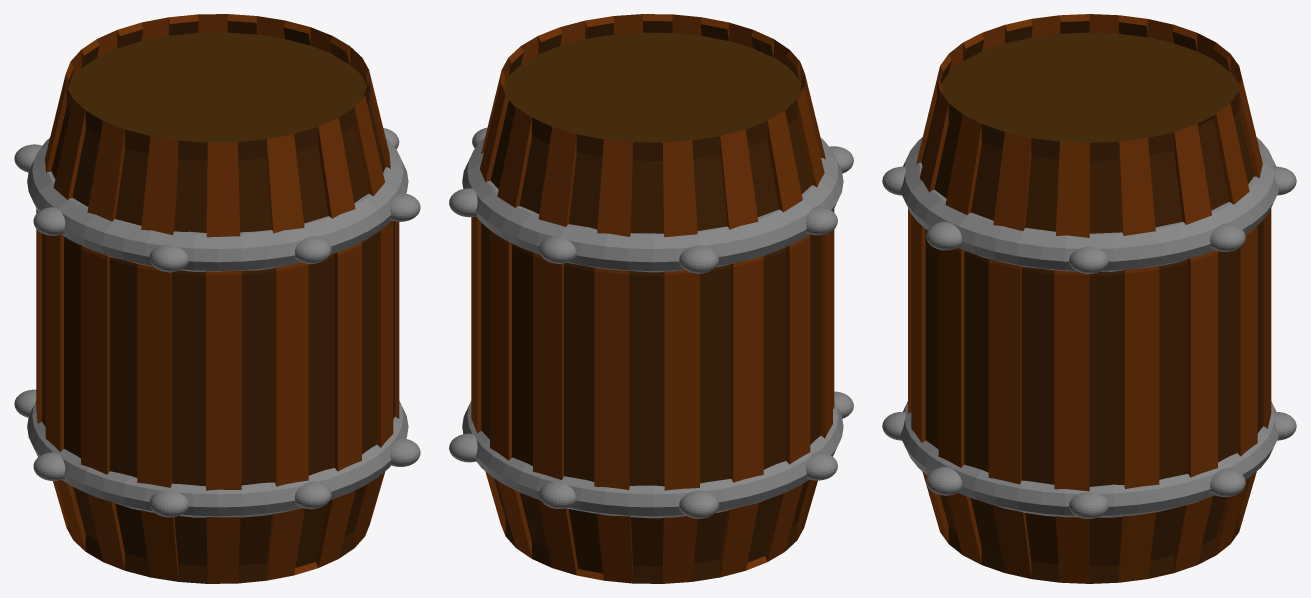
The model's file is barril.fbx.
The picture shows the model from 3 angles, left to right: view 1: azimuth 30°, elevation 25°; view 2: azimuth 150°, elevation 25°; view 3: azimuth 270°, elevation 25°; orthographic projection.
Visible parts, largest first — view 1: barril; view 2: barril; view 3: barril.
Boxes of the visible parts, x1,y1,x2,y2 form: barril: [14, 14, 420, 583]; barril: [449, 14, 853, 583]; barril: [882, 14, 1296, 583].
Bounding box in the file's own units: 273 × 319 × 272.
